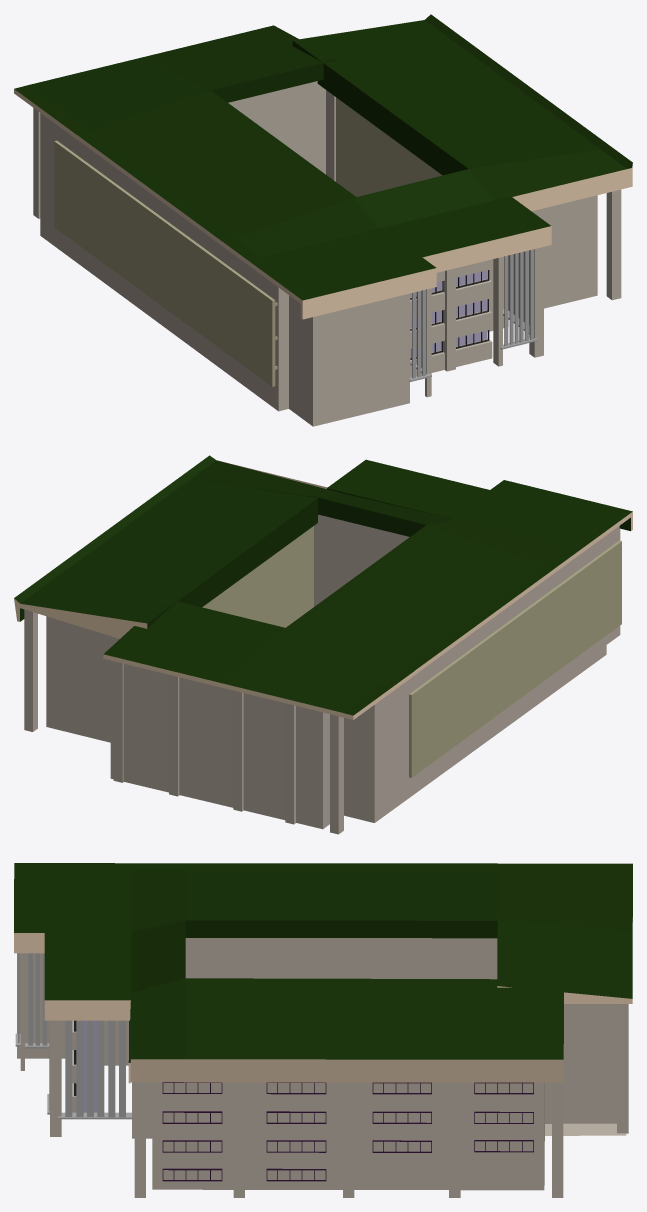
The model's file is ST BUILDING_new3.fbx.
The picture shows the model from 3 angles, top to bottom: view 1: azimuth 30°, elevation 25°; view 2: azimuth 150°, elevation 25°; view 3: azimuth 270°, elevation 25°; orthographic projection. The views are drawn at different scales.
Parts seen in each view (by area): view 1: Cube.134; view 2: Cube.134; view 3: Cube.134.
Boxes of the visible parts, <box> form: Cube.134: <box>14,14,632,426</box>; Cube.134: <box>14,455,632,834</box>; Cube.134: <box>14,863,632,1197</box>.
Bounding box in the file's own units: 655 × 229 × 832.
